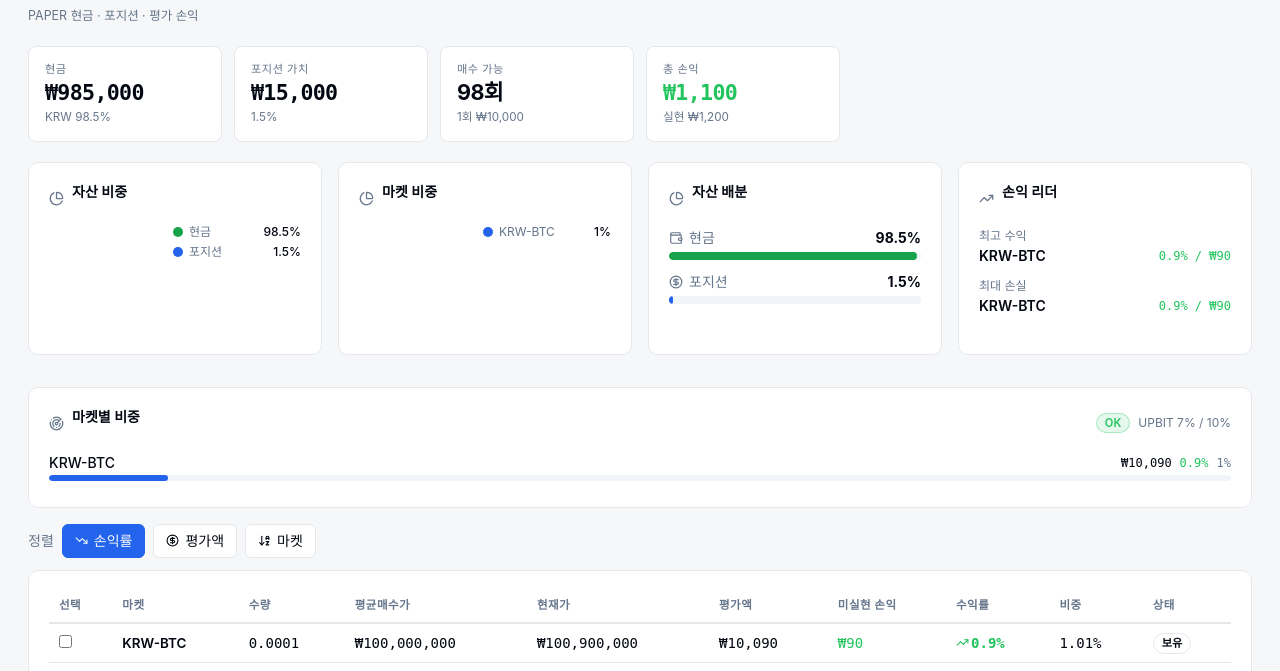
Test: PortfolioPage › sells only selected paper positions after confirmation
Click the checkbox named "KRW-BTC 선택" at (66, 641), box [59,635,72,648]
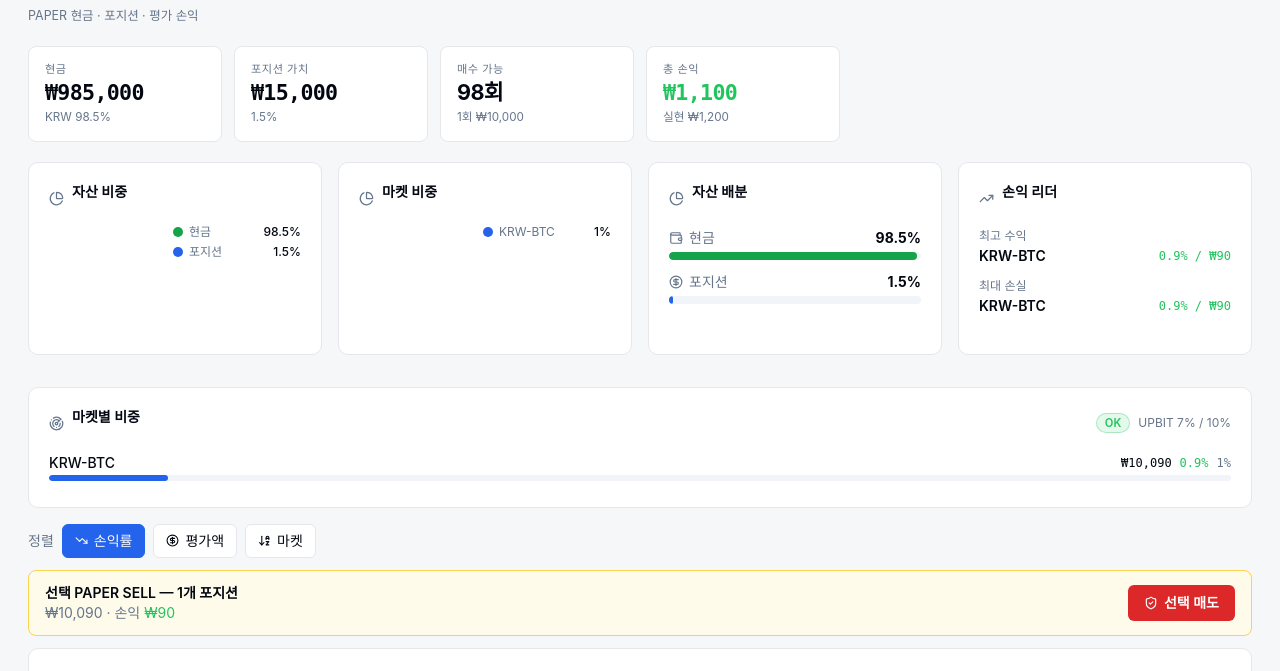
Click the button "선택 매도" at (1181, 603), box [1128,585,1235,621]
(page scrolled)
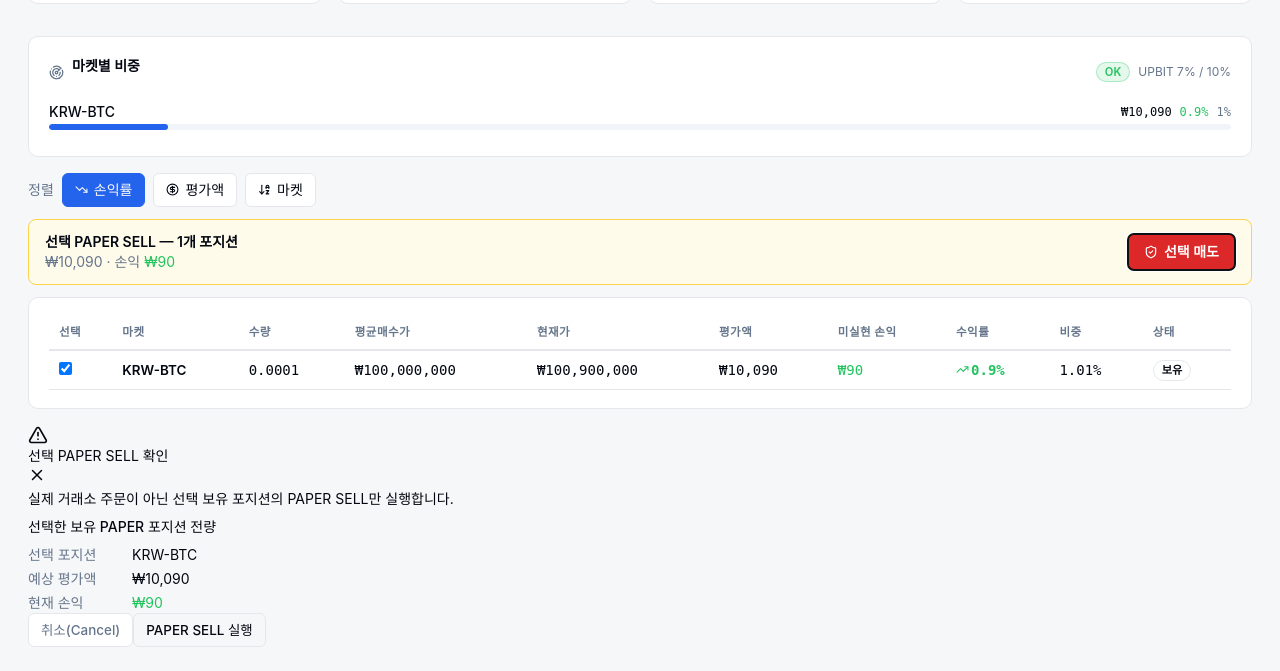
Now the dialog "선택 PAPER SELL 확인" is shown, box [28,425,454,647]
Now the text "KRW-BTC" next to "선택 포지션" is shown, box [132,546,197,563]
Now the text "실제 거래소 주문이 아닌 선택 보유 포지션의 PAPER SELL만 실행합니다." is shown, box [28,490,454,507]
Click the button "PAPER SELL 실행" at (200, 630), box [133,613,266,647]
(page scrolled)
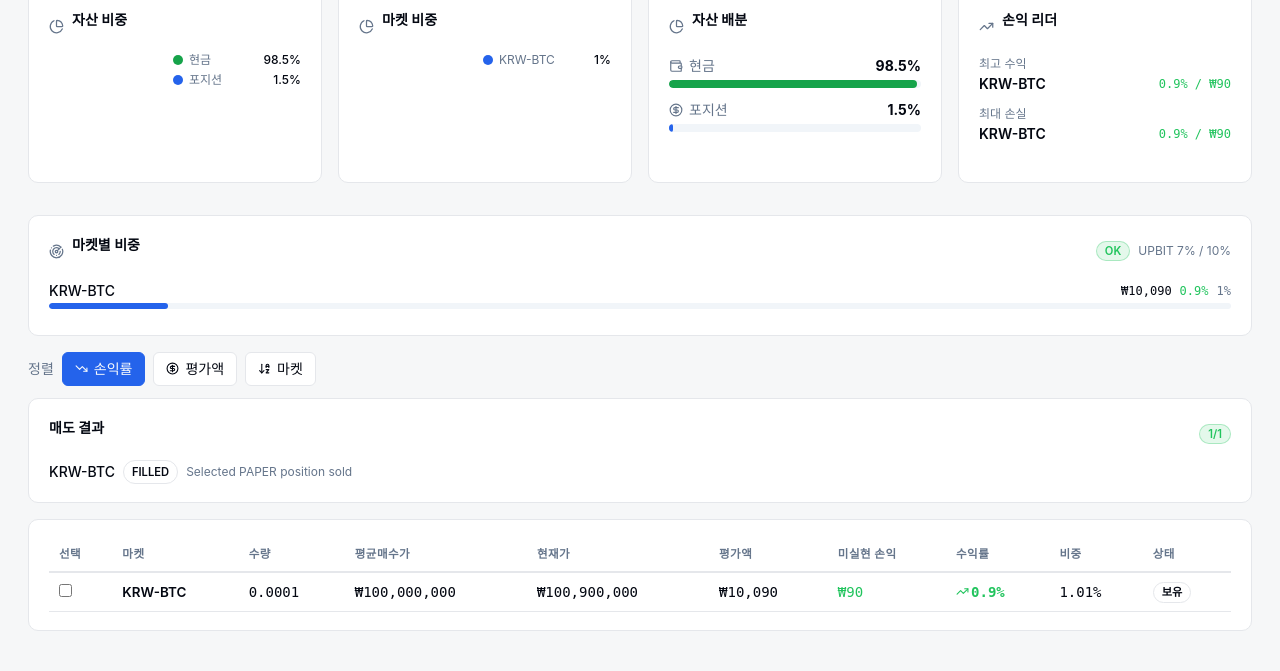
Now the heading "매도 결과" is shown, box [49,417,104,438]
Now the text "FILLED" is shown, box [123,460,178,484]
